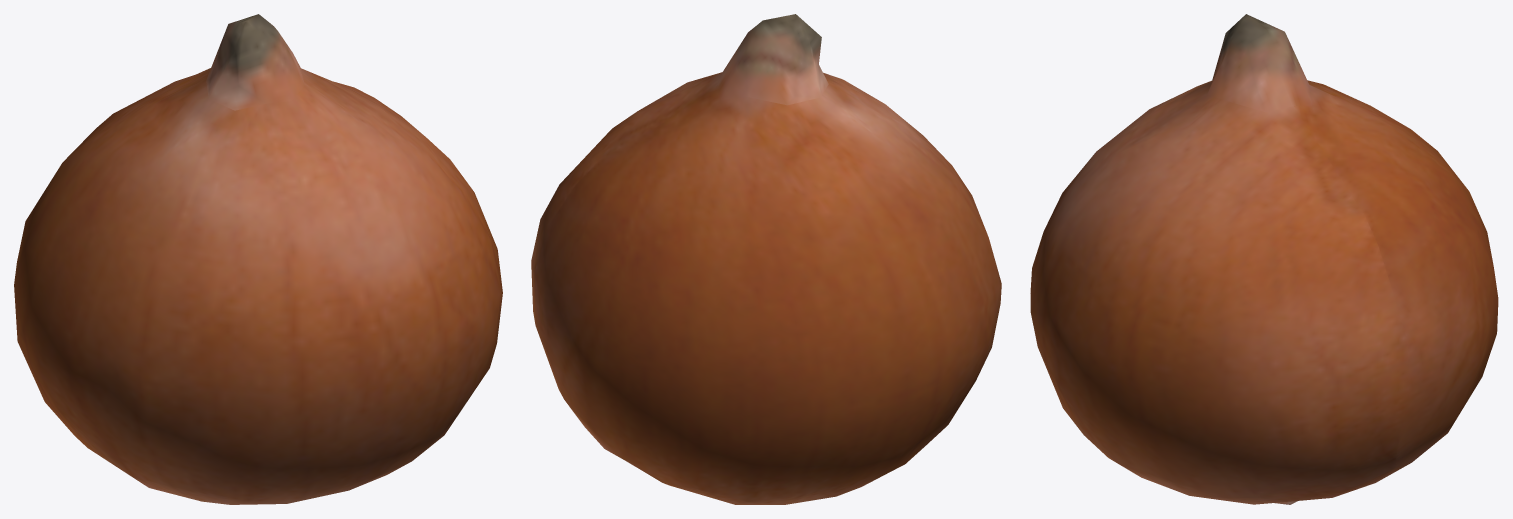
Rendered from SM_onion_01.fbx.
The picture shows the model from 3 angles, left to right: view 1: azimuth 30°, elevation 25°; view 2: azimuth 150°, elevation 25°; view 3: azimuth 270°, elevation 25°; orthographic projection. The views are drawn at different scales.
Parts seen in each view (by area): view 1: SM_onion_01_LOD0; view 2: SM_onion_01_LOD0; view 3: SM_onion_01_LOD0.
Part boxes in pixels (left/top/right/bottom): SM_onion_01_LOD0: left=14, top=14, right=502, bottom=504; SM_onion_01_LOD0: left=531, top=14, right=1001, bottom=504; SM_onion_01_LOD0: left=1030, top=14, right=1498, bottom=504.
Size of the model in its own units: 5.92 by 5.85 by 6.48.
1 material, 1 textured.
